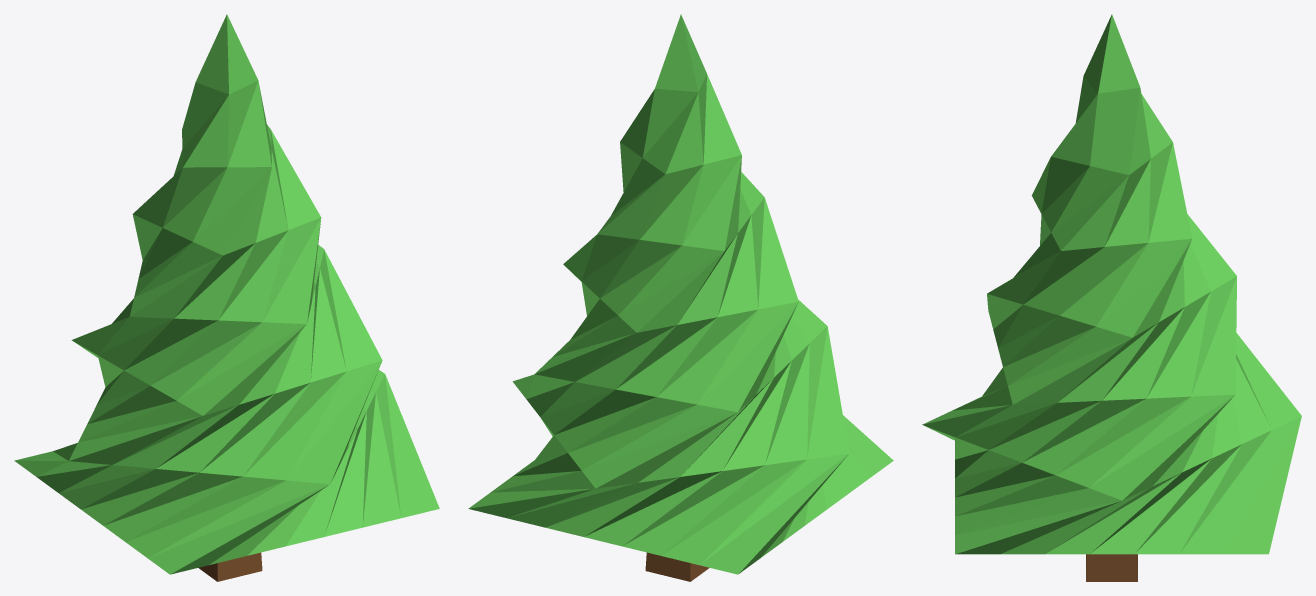
File: yolka.fbx
3 views of the same model, side by side, from view 1: azimuth 30°, elevation 25°; view 2: azimuth 150°, elevation 25°; view 3: azimuth 270°, elevation 25° (orthographic).
Parts seen in each view (by area): view 1: Pyramid, Cube; view 2: Pyramid, Cube; view 3: Pyramid, Cube.
Boxes of the visible parts, <box> form: Pyramid: <box>14,14,439,574</box>; Cube: <box>198,552,262,581</box>; Pyramid: <box>468,14,893,574</box>; Cube: <box>645,552,709,581</box>; Pyramid: <box>922,14,1301,554</box>; Cube: <box>1086,554,1137,581</box>.
Bounding box in the file's own units: 1452 × 2349 × 1452.
